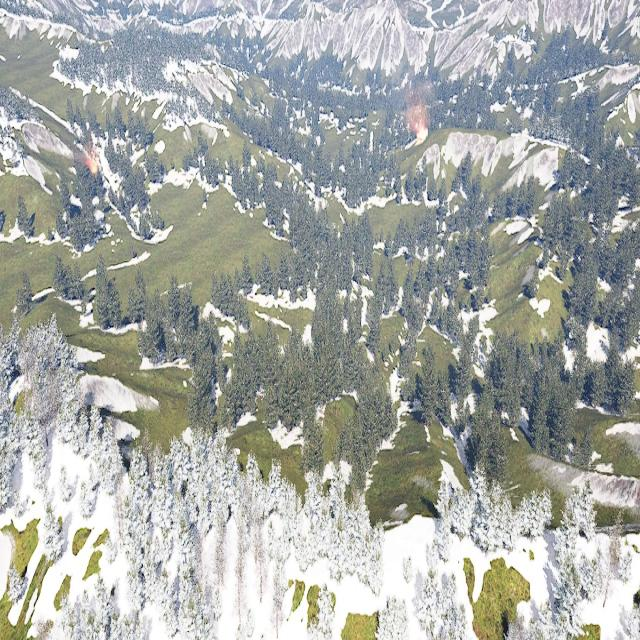fire: (417, 127, 428, 143), (89, 160, 99, 176)
smoke: (404, 80, 431, 129)
